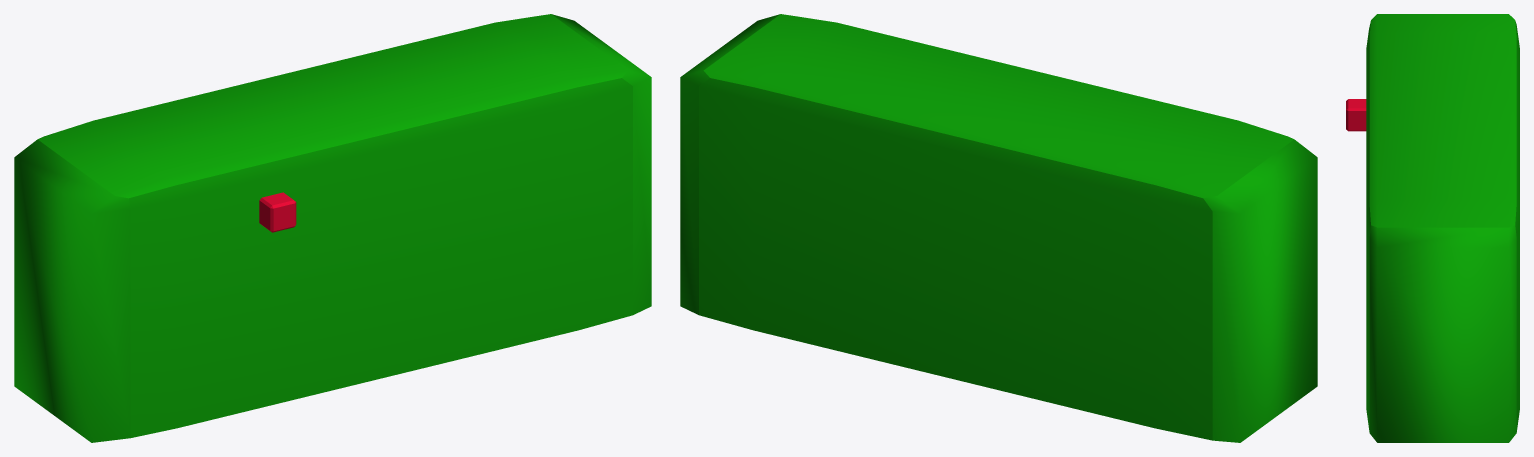
Rendered from Arbusto 1.fbx.
3 views of the same model, side by side, from view 1: azimuth 30°, elevation 25°; view 2: azimuth 150°, elevation 25°; view 3: azimuth 270°, elevation 25° (orthographic). The views are drawn at different scales.
Parts seen in each view (by area): view 1: Cube.033, Cube.060; view 2: Cube.033; view 3: Cube.033, Cube.060.
Boxes of the visible parts, <box> form: Cube.033: <box>14,14,651,442</box>; Cube.060: <box>259,192,296,232</box>; Cube.033: <box>680,14,1317,442</box>; Cube.033: <box>1366,14,1519,442</box>; Cube.060: <box>1346,99,1366,131</box>.
Size of the model in its own units: 192 by 80.86 by 60.6.
